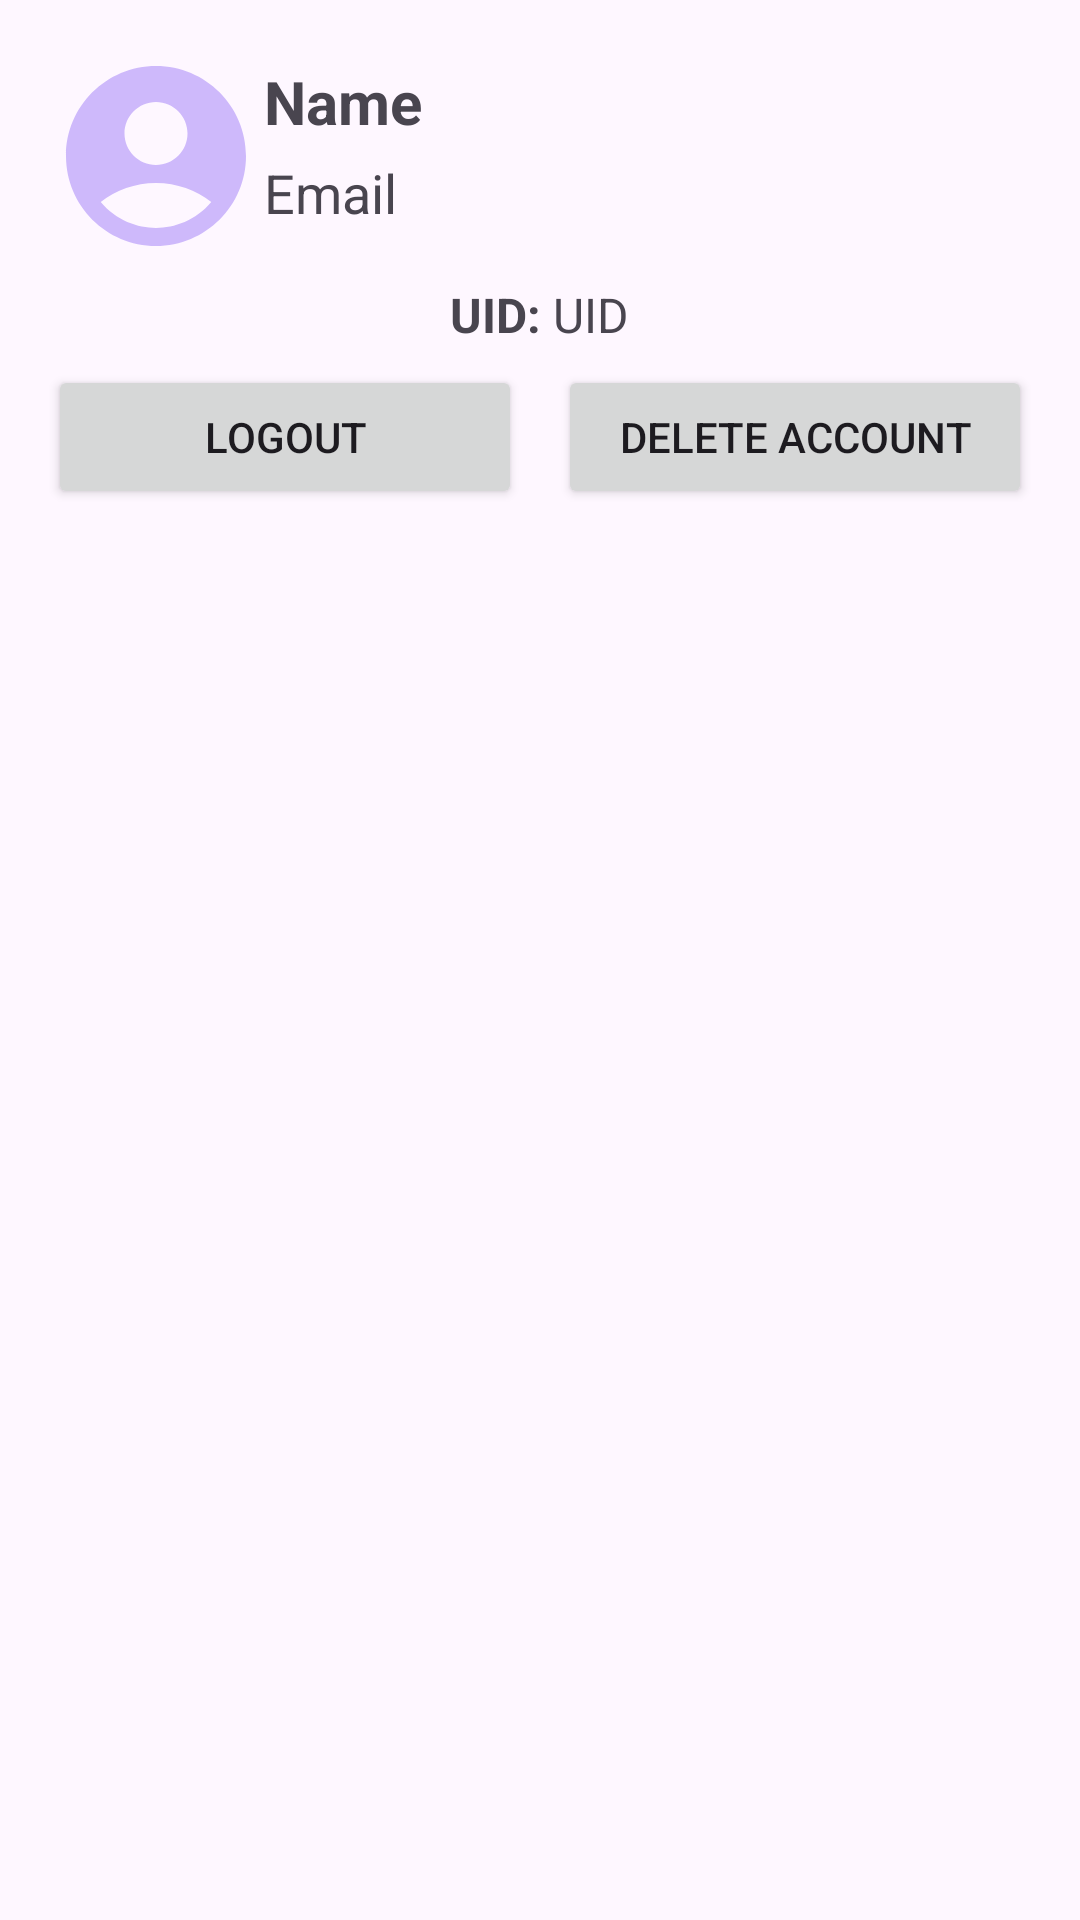

Icon click points for this 1080*1920 phone screenshot, format [x,y]:
account: [156,156]
